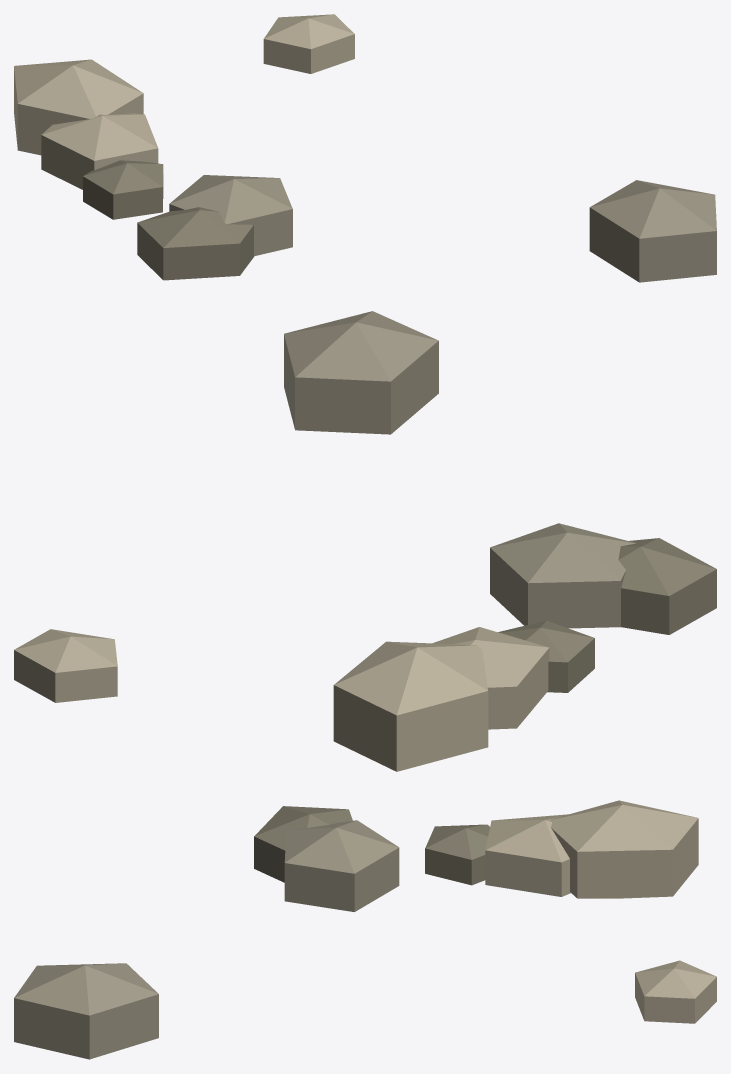
File: cover_stones_a.glb
3 renders of one model, top to bottom at view 1: azimuth 30°, elevation 25°; view 2: azimuth 150°, elevation 25°; view 3: azimuth 270°, elevation 25°, orthographic. The views are drawn at different scales.
Parts seen in each view (by area): view 1: cover_stones_a; view 2: cover_stones_a; view 3: cover_stones_a.
Part boxes in pixels (x1=…): cover_stones_a: x1=14, y1=14, x2=716, y2=282; cover_stones_a: x1=14, y1=311, x2=716, y2=771; cover_stones_a: x1=14, y1=800, x2=716, y2=1059.
Size of the model in its own units: 0.6627 by 0.13 by 0.8842.
